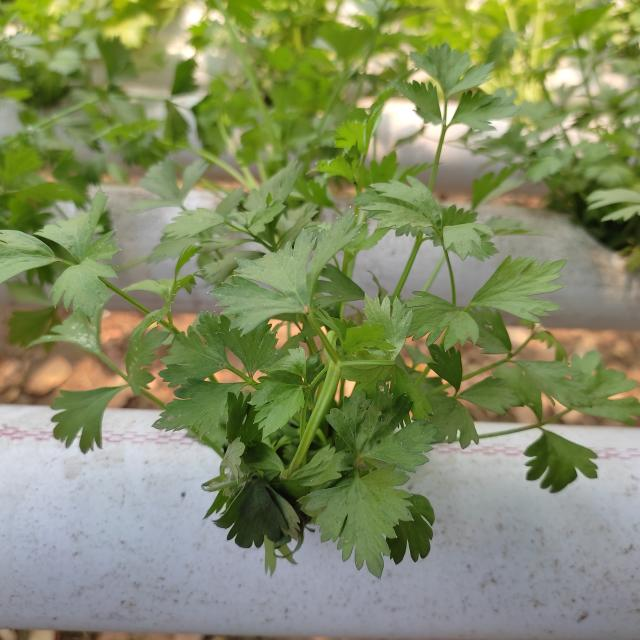Wet Waste: (84, 134, 594, 563)
